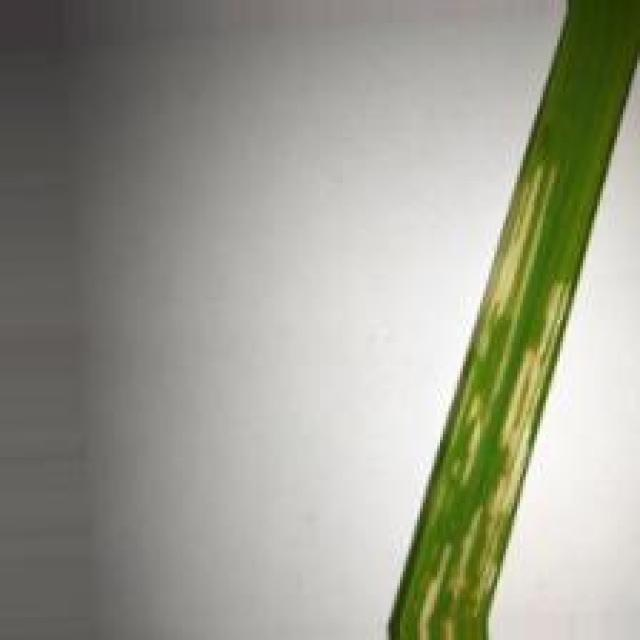Rice_Hispa: (444, 283, 570, 638), (472, 162, 558, 356)
